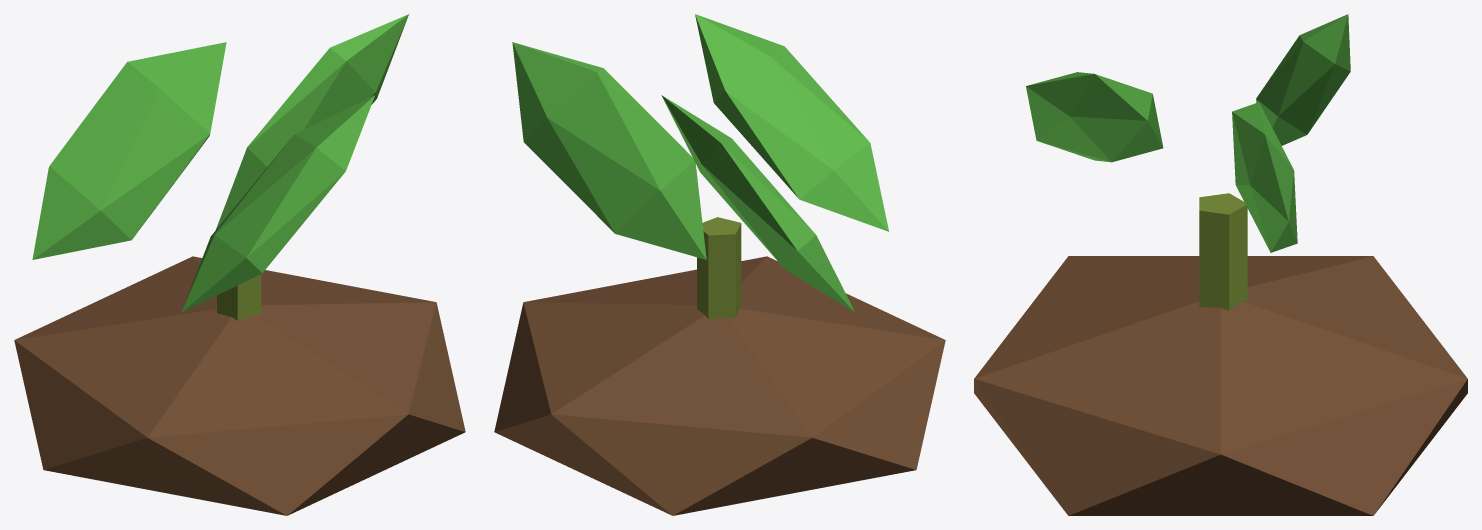
The model's file is crop_tomato_1.glb.
3 renders of one model, left to right at view 1: azimuth 30°, elevation 25°; view 2: azimuth 150°, elevation 25°; view 3: azimuth 270°, elevation 25°, orthographic. The views are drawn at different scales.
Parts seen in each view (by area): view 1: crop_tomato_1; view 2: crop_tomato_1; view 3: crop_tomato_1.
Boxes of the visible parts, x1,y1,x2,y2 form: crop_tomato_1: (14, 14, 465, 515); crop_tomato_1: (494, 14, 945, 515); crop_tomato_1: (974, 14, 1467, 515).
Bounding box in the file's own units: 0.3023 × 0.2885 × 0.2875.
